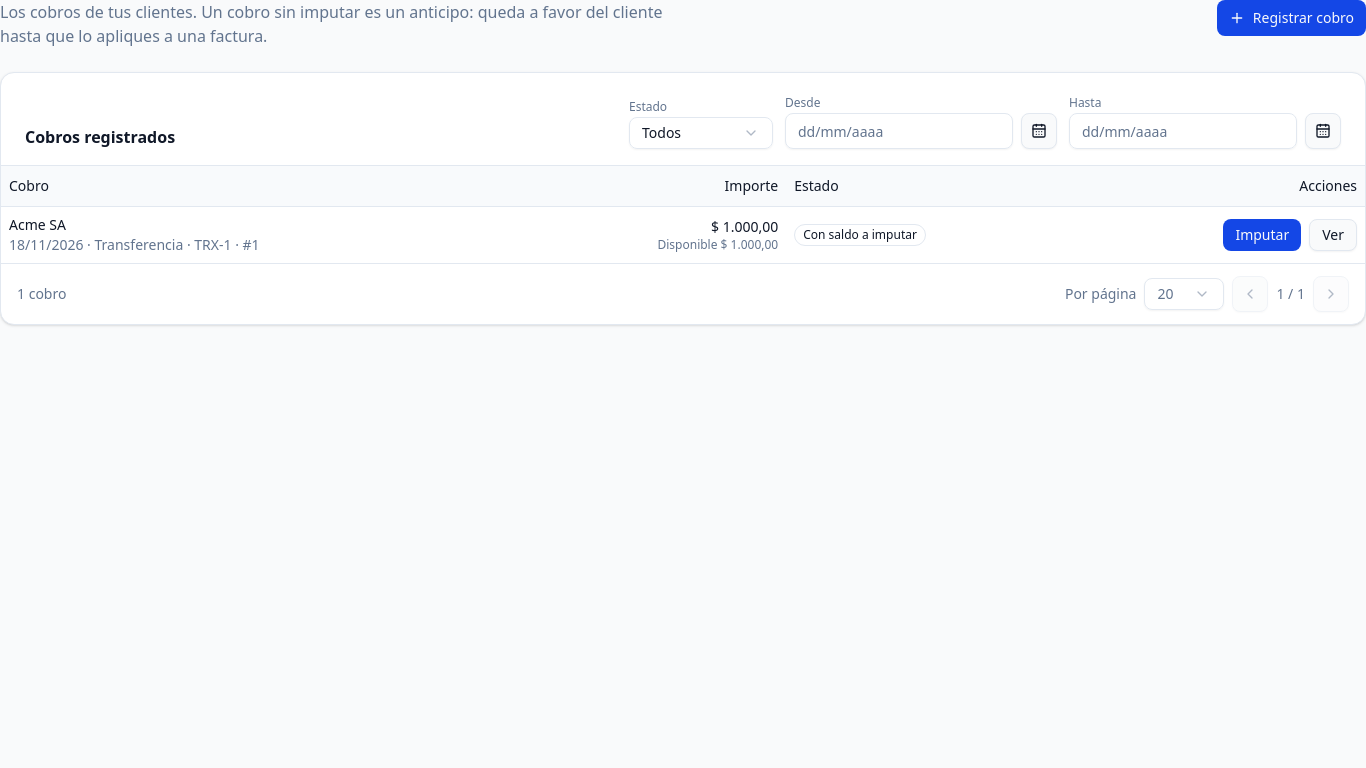
Cobros: listado › si la lista de clientes no carga, el listado sigue y el formulario muestra el error
The width and height of the screenshot is (1366, 768).
Expected: the table is shown, [1,166,1365,262]
Click the button "Registrar cobro".
click(1291, 18)  # box [1217,0,1365,36]
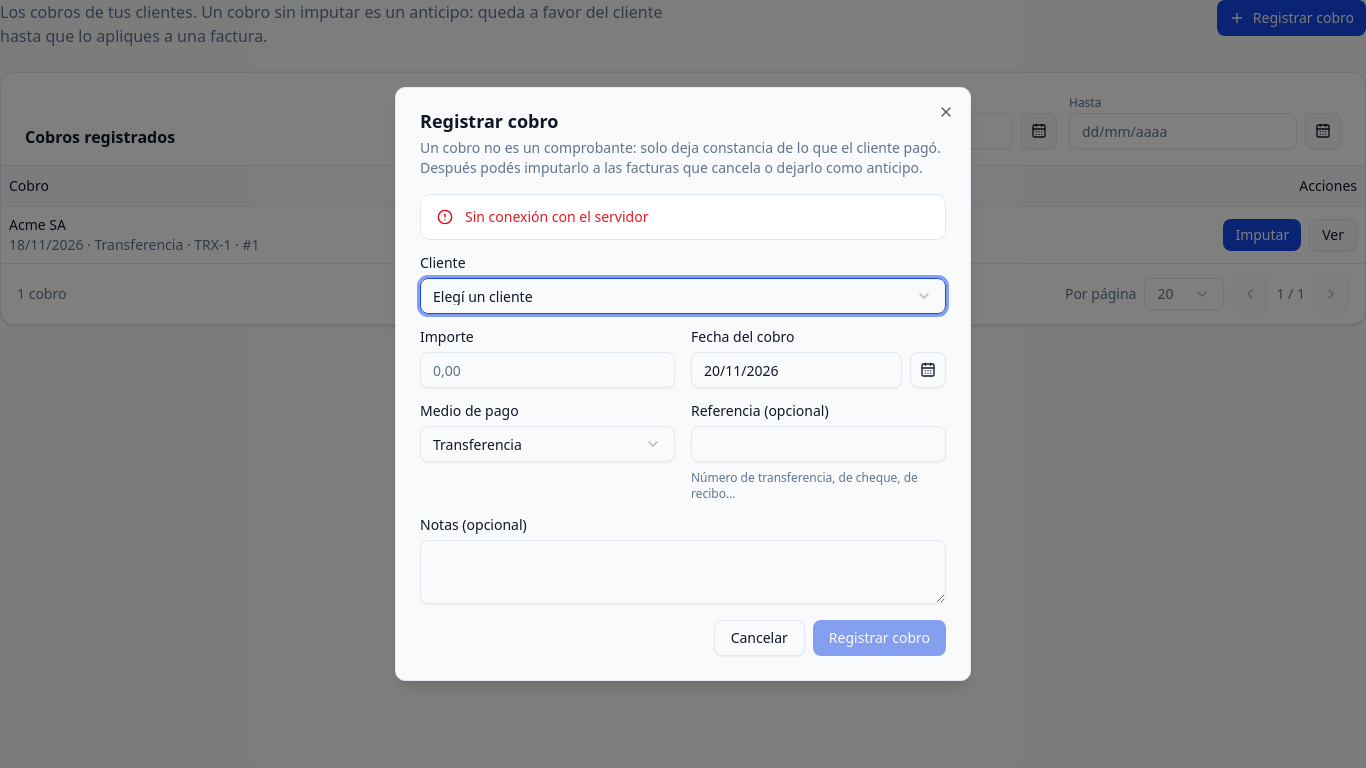
Expected: the text "Sin conexión con el servidor" is shown, [465,207,648,226]
